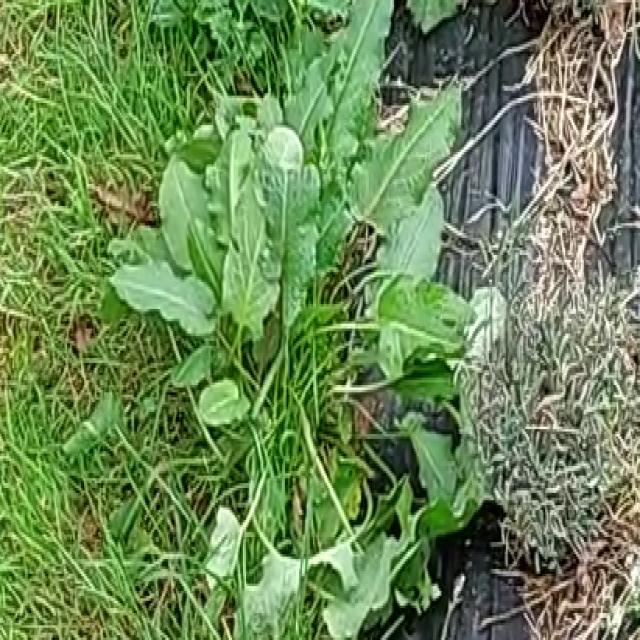organic waste: (32, 0, 552, 620)
